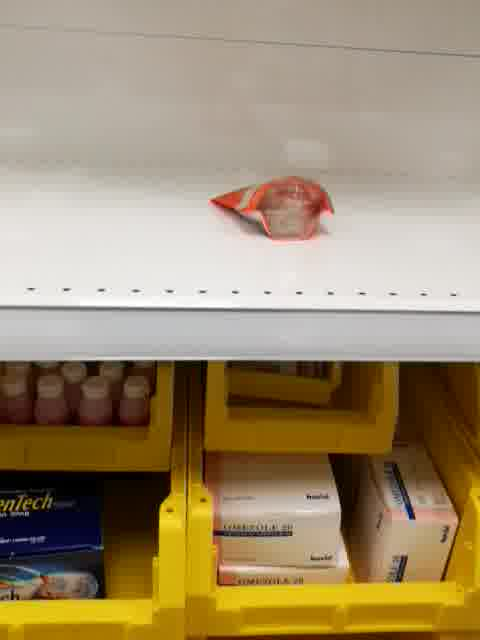whitechia: (206, 175, 335, 241)
